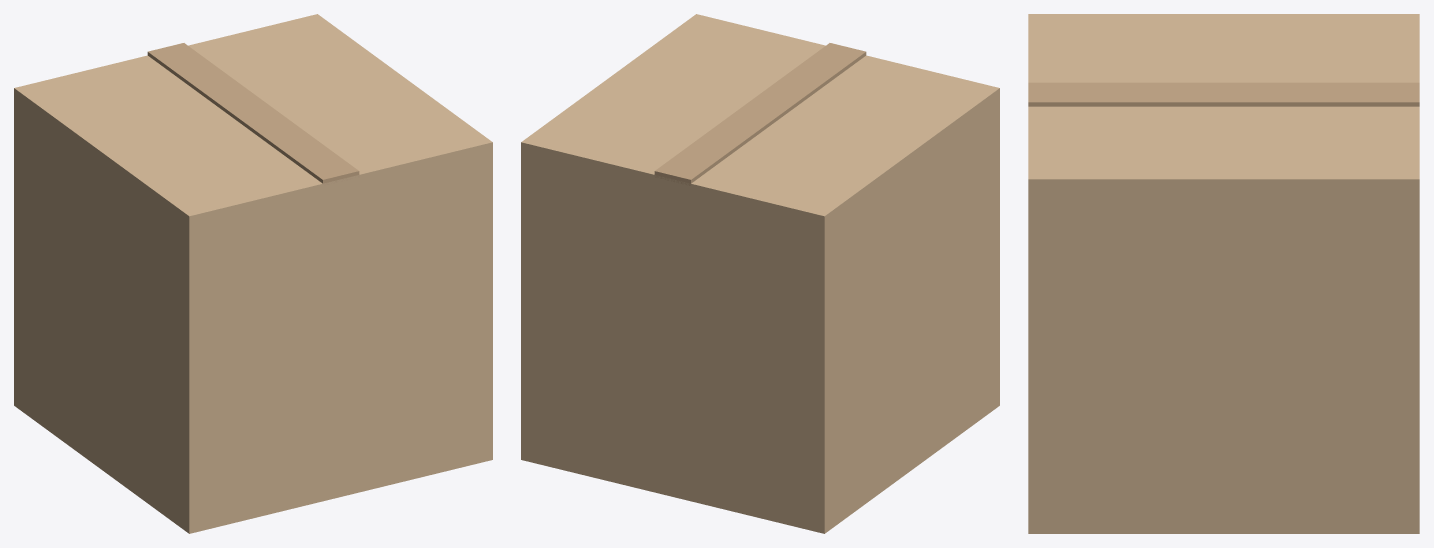
File: cardboard_box.glb
3 renders of one model, left to right at view 1: azimuth 30°, elevation 25°; view 2: azimuth 150°, elevation 25°; view 3: azimuth 270°, elevation 25°, orthographic. The views are drawn at different scales.
Parts seen in each view (by area): view 1: cardboard_box.glb; view 2: cardboard_box.glb; view 3: cardboard_box.glb.
Boxes of the visible parts, x1,y1,x2,y2 form: cardboard_box.glb: [14, 14, 492, 533]; cardboard_box.glb: [521, 14, 999, 533]; cardboard_box.glb: [1028, 14, 1419, 533].
Size of the model in its own units: 0.5 by 0.506 by 0.5.
